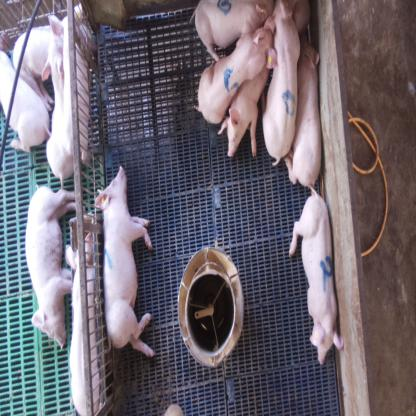2: (320, 255, 334, 292)
5: (223, 65, 240, 96)
N-A: (282, 91, 298, 117)
